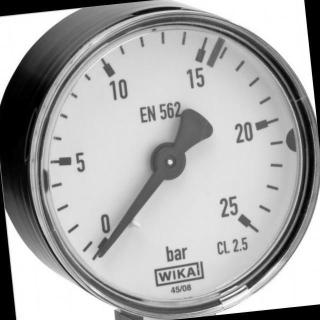gauge: (26, 0, 320, 320), (220, 200, 266, 240), (85, 224, 124, 264), (150, 141, 187, 181), (96, 247, 110, 260)
